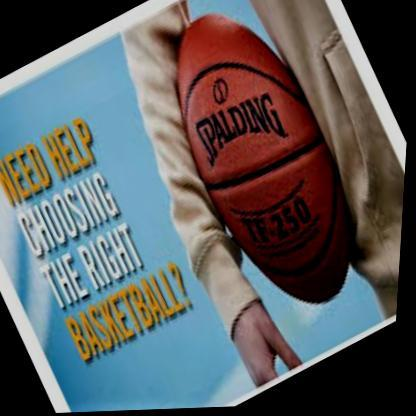basketball: (128, 0, 401, 338)
